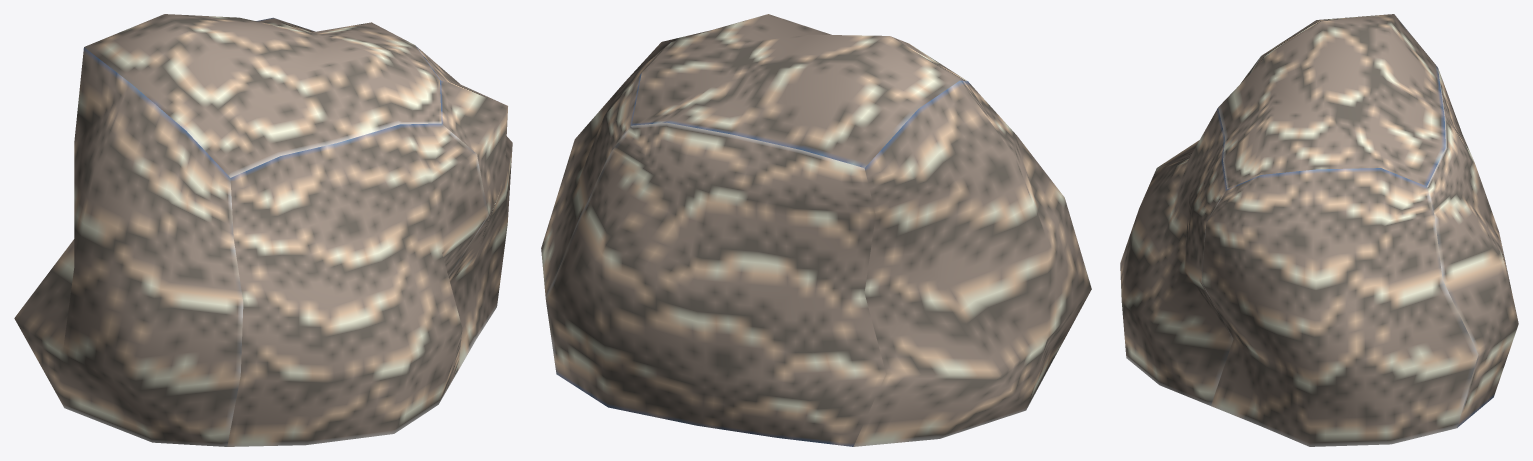
Rendered from medium_sand_Rock.fbx.
3 views of the same model, side by side, from view 1: azimuth 30°, elevation 25°; view 2: azimuth 150°, elevation 25°; view 3: azimuth 270°, elevation 25° (orthographic). The views are drawn at different scales.
Visible parts, largest first — view 1: medium_sand_Rock; view 2: medium_sand_Rock; view 3: medium_sand_Rock.
Boxes of the visible parts, bbox=[...] form: medium_sand_Rock: bbox=[14, 14, 512, 446]; medium_sand_Rock: bbox=[541, 14, 1091, 446]; medium_sand_Rock: bbox=[1120, 14, 1518, 446].
Bounding box in the file's own units: 1.65 × 1.17 × 1.41.
